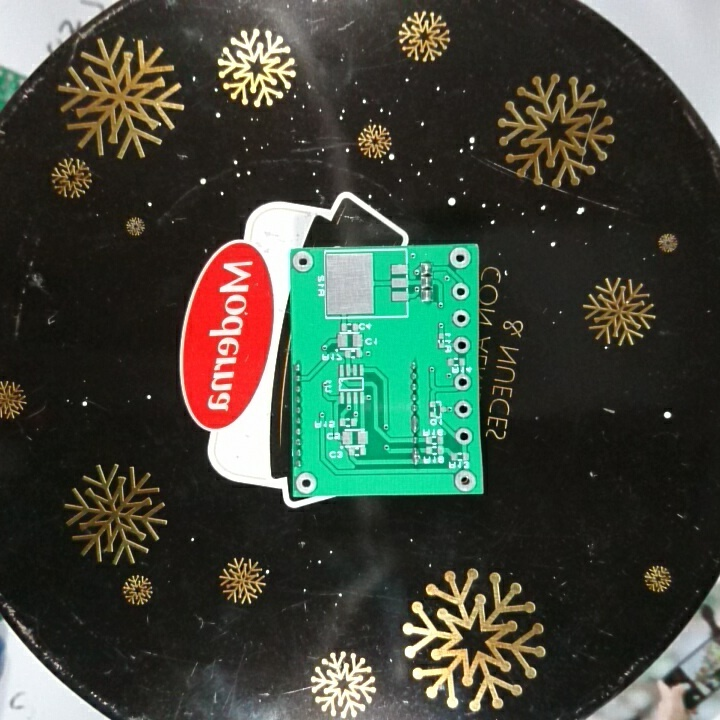F: (446, 246, 474, 272), (294, 470, 318, 497), (452, 468, 478, 492), (290, 249, 314, 273), (451, 280, 472, 303), (450, 370, 474, 390), (451, 306, 471, 329), (450, 335, 472, 355), (452, 427, 475, 446), (454, 398, 473, 418)
P: (409, 413, 422, 435), (409, 444, 422, 466)
